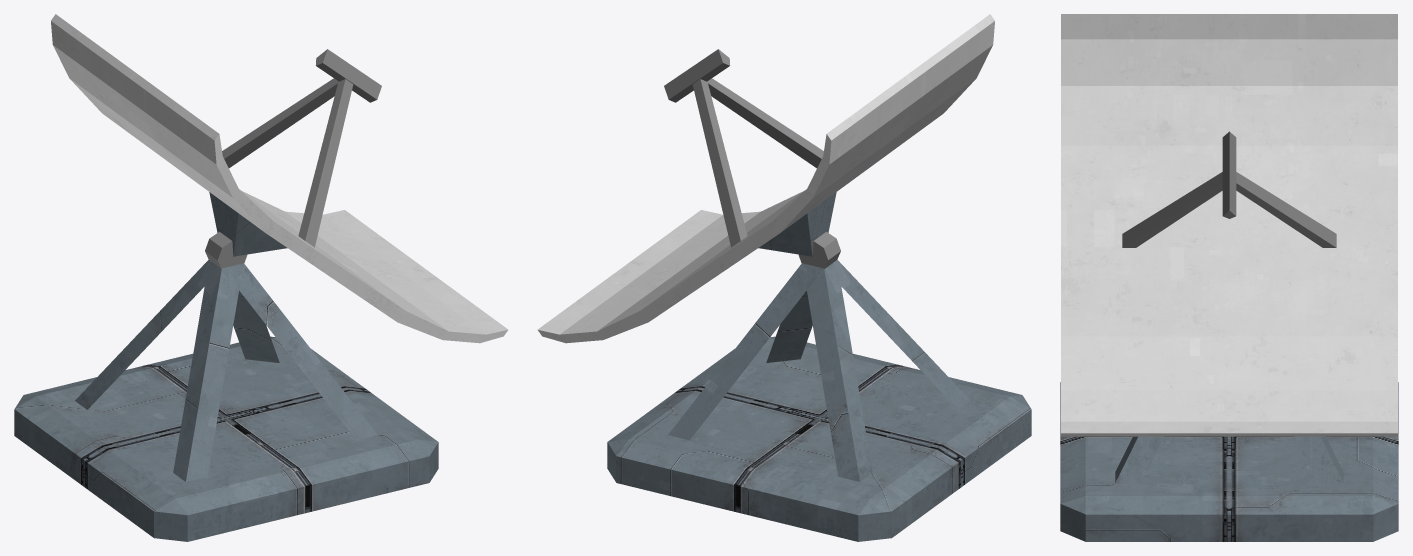
Rendered from Locator.fbx.
3 renders of one model, left to right at view 1: azimuth 30°, elevation 25°; view 2: azimuth 150°, elevation 25°; view 3: azimuth 270°, elevation 25°, orthographic. The views are drawn at different scales.
Visible parts, largest first — view 1: Cube.001, Plate, Cube.006, Cube.002, Cube.004, Cube, Cube.003, Cylinder; view 2: Cube.001, Plate, Cube.006, Cube.004, Cube.002, Cube, Cube.003, Cylinder; view 3: Plate, Cube.001, Cube.006, Cube.002, Cube.004, Cube.003.
Part boxes in pixels (bbox=[...]): Cube.001: bbox=[14, 336, 438, 541]; Plate: bbox=[51, 14, 508, 343]; Cube.006: bbox=[75, 260, 377, 481]; Cube.002: bbox=[298, 79, 353, 247]; Cube.004: bbox=[222, 78, 338, 168]; Cube: bbox=[209, 192, 287, 256]; Cube.003: bbox=[315, 49, 381, 102]; Cylinder: bbox=[205, 232, 247, 268]; Cube.001: bbox=[607, 336, 1031, 541]; Plate: bbox=[537, 14, 994, 343]; Cube.006: bbox=[668, 260, 970, 481]; Cube.004: bbox=[692, 79, 747, 247]; Cube.002: bbox=[707, 78, 823, 168]; Cube: bbox=[758, 192, 836, 256]; Cube.003: bbox=[664, 49, 730, 102]; Cylinder: bbox=[798, 232, 840, 268]; Plate: bbox=[1061, 14, 1397, 436]; Cube.001: bbox=[1060, 382, 1398, 541]; Cube.006: bbox=[1115, 436, 1343, 483]; Cube.002: bbox=[1122, 172, 1222, 247]; Cube.004: bbox=[1236, 172, 1336, 247]; Cube.003: bbox=[1222, 131, 1236, 218].
Size of the model in its own units: 313 by 349 by 260.
